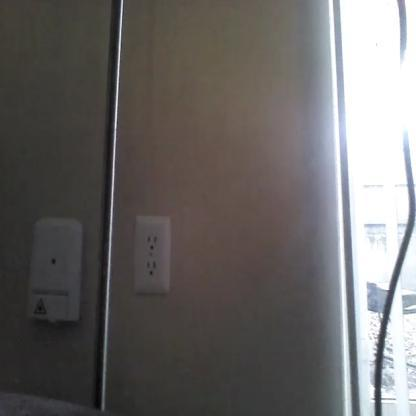OUTLET: (130, 214, 172, 294)
